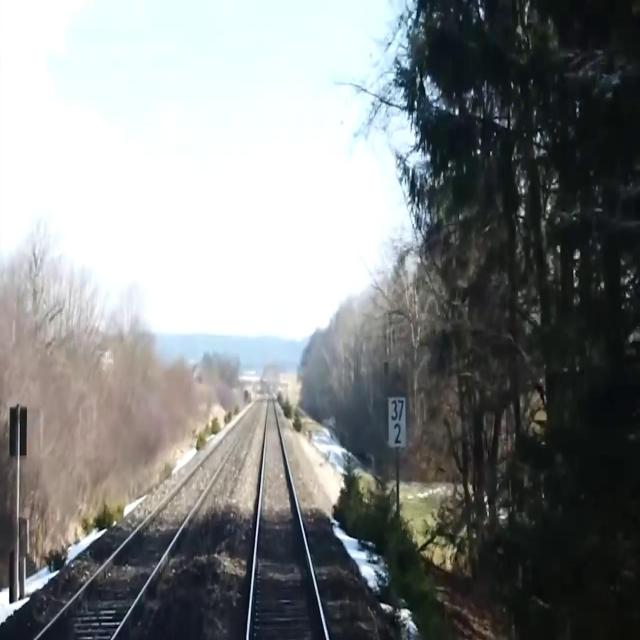rail-track: (40, 404, 259, 639), (250, 399, 324, 639)
